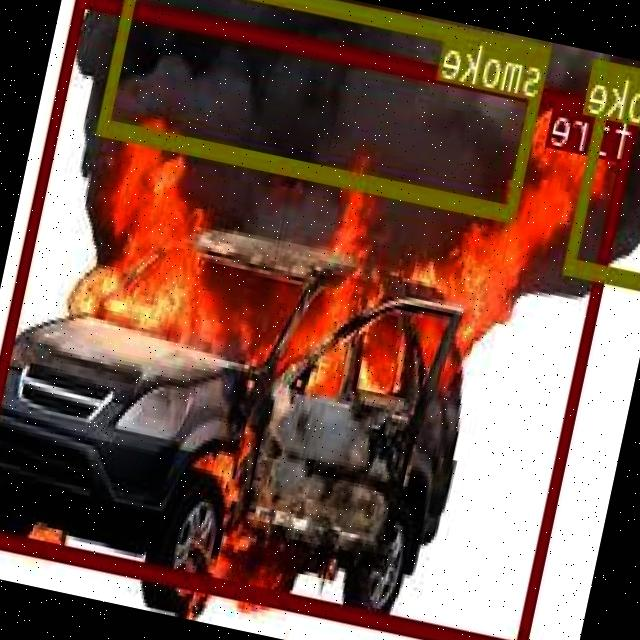fire: (0, 0, 640, 640)
smoke: (100, 0, 553, 218), (566, 58, 640, 290)
